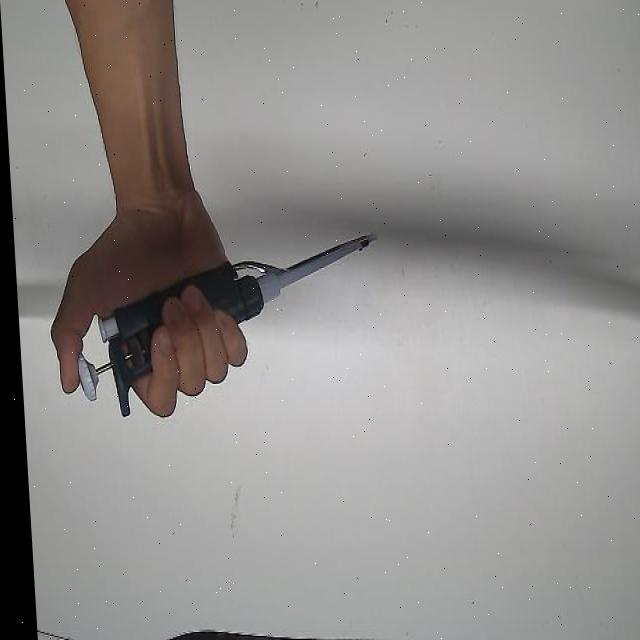Single Channel Pipettor: (65, 226, 388, 418)
